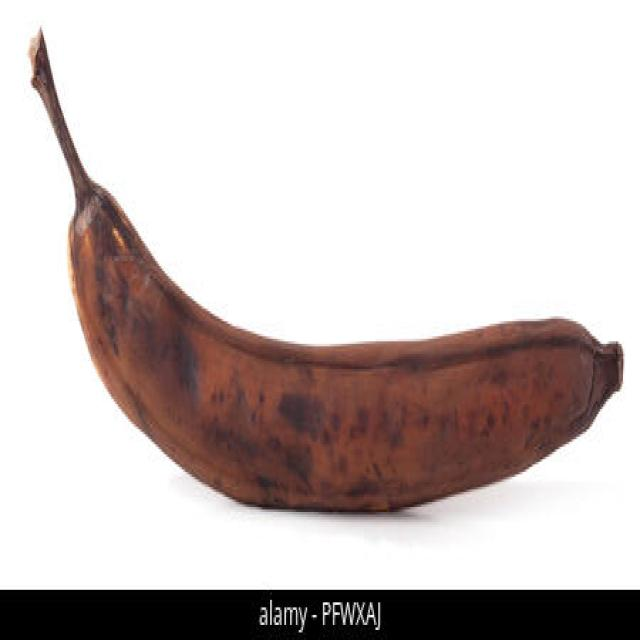Rotten: (27, 20, 623, 517)
